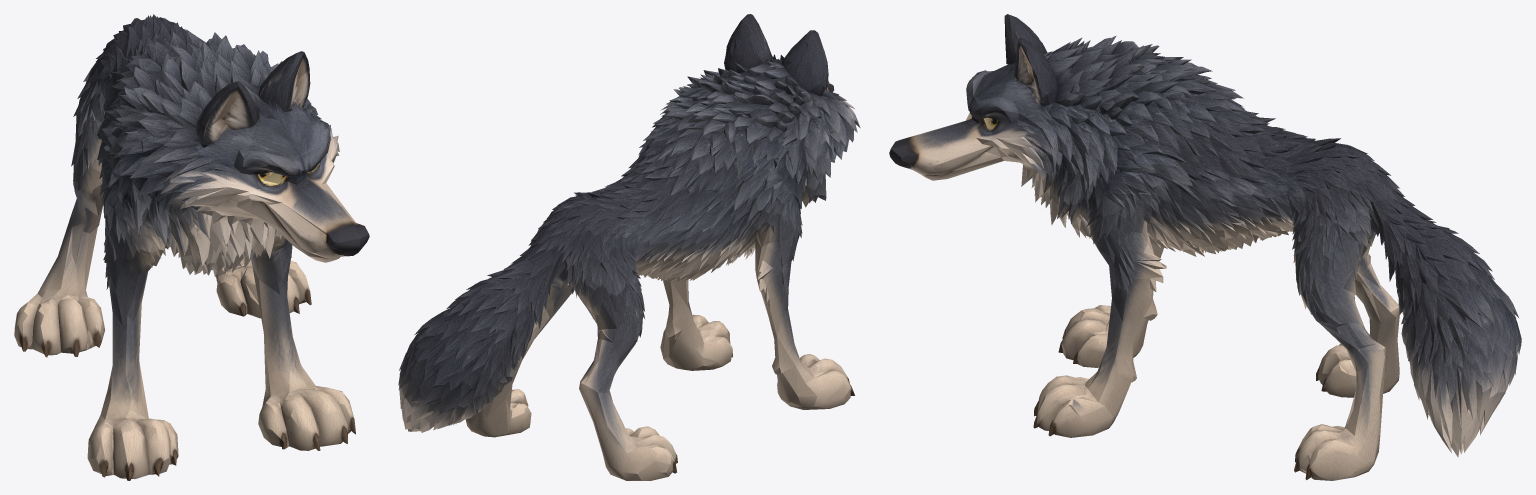
3 views of the same model, side by side, from view 1: azimuth 30°, elevation 25°; view 2: azimuth 150°, elevation 25°; view 3: azimuth 270°, elevation 25° (orthographic). The views are drawn at different scales.
Parts seen in each view (by area): view 1: Mesh_0; view 2: Mesh_0; view 3: Mesh_0.
Part boxes in pixels (bbox=[...]): Mesh_0: bbox=[14, 14, 369, 480]; Mesh_0: bbox=[398, 14, 860, 480]; Mesh_0: bbox=[889, 14, 1521, 480].
Bounding box in the file's own units: 1.09 × 1.22 × 1.9.
Materials: 1 (1 with a texture image).
